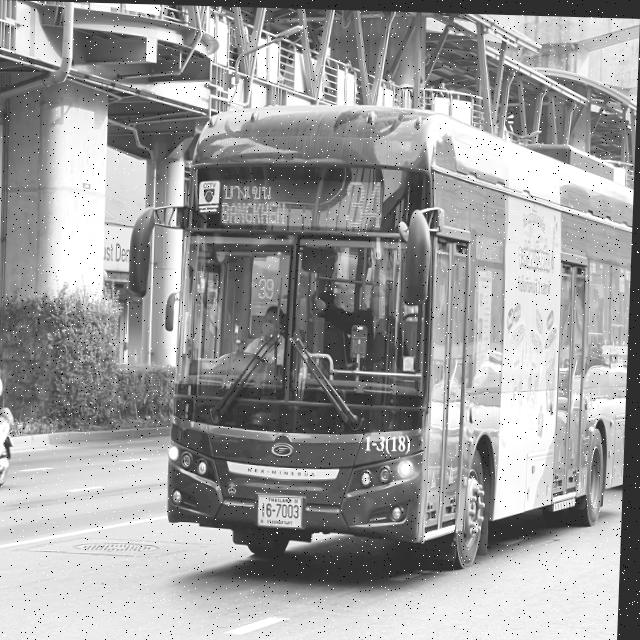Bus Line Number: (340, 174, 392, 231)
Bus Side Number: (363, 429, 419, 452)
Destination Sign: (219, 173, 304, 230)
TSB-Bus: (163, 88, 638, 577)
